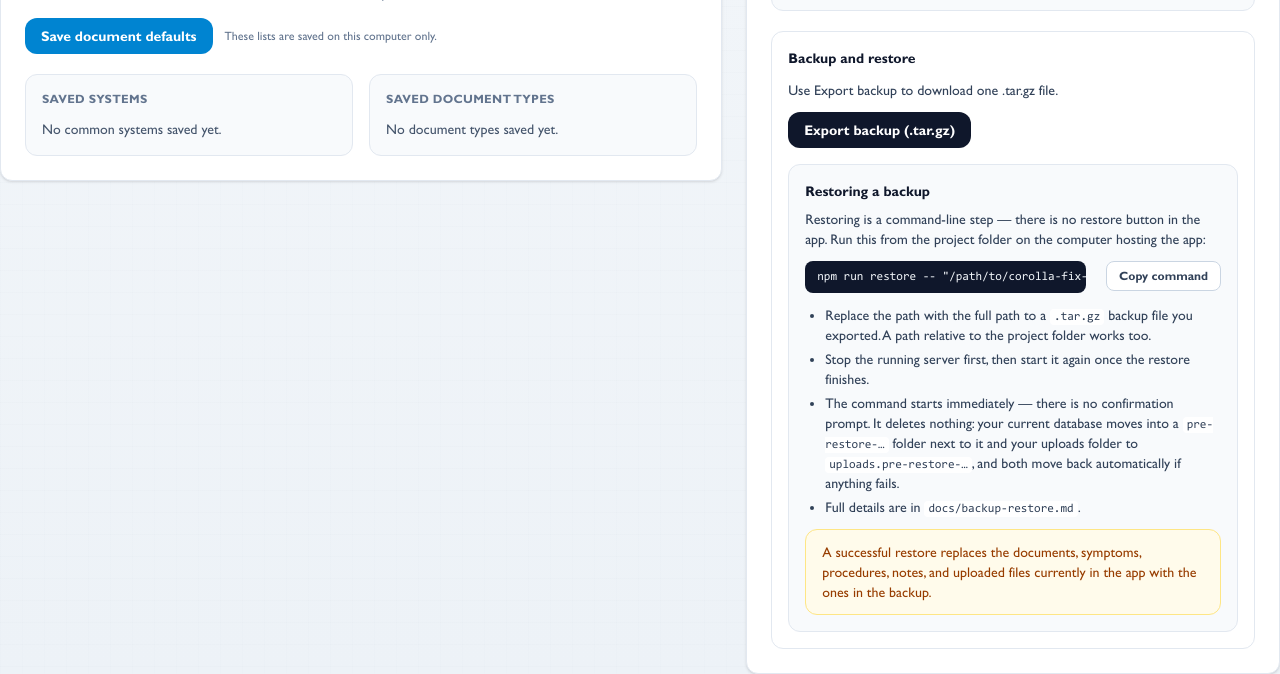
Scenario: a browser without clipboard support says so instead of looking successful
The image size is (1280, 674).
(page scrolled)
Click the button "Copy command": (1164,276) [1106,261,1221,291]
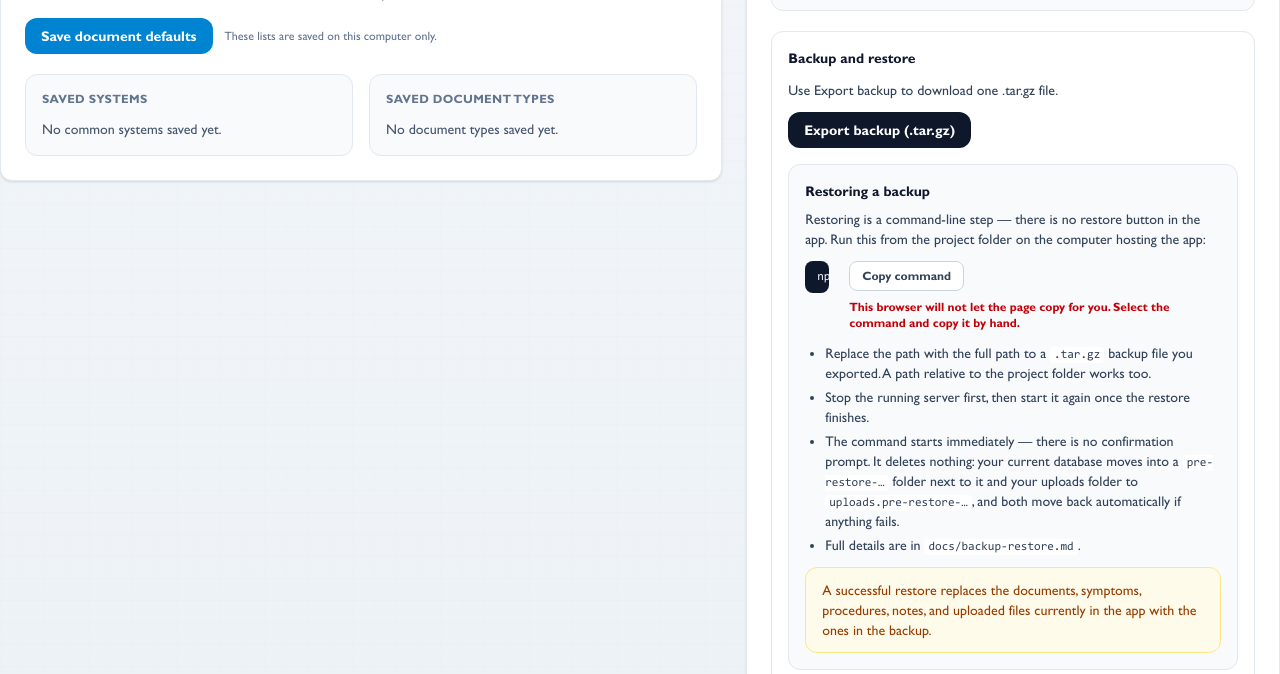
Expected: the text "will not let the page copy for you" is shown, [849,300,1170,330]
